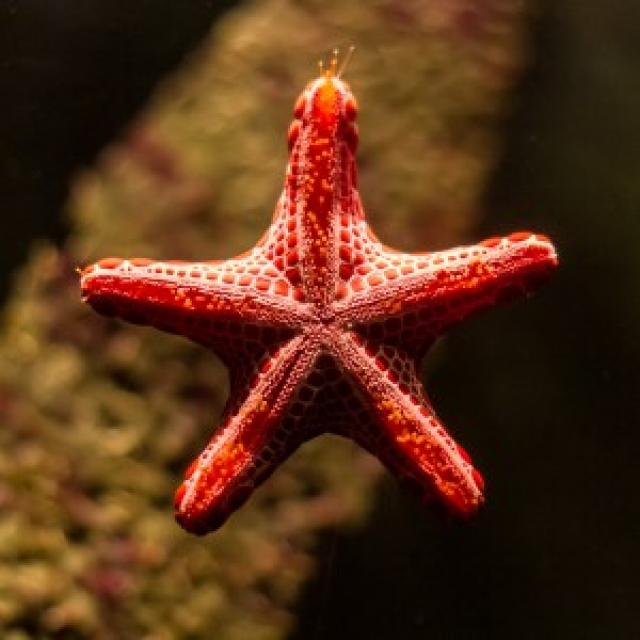Starfish: (59, 24, 575, 577)
